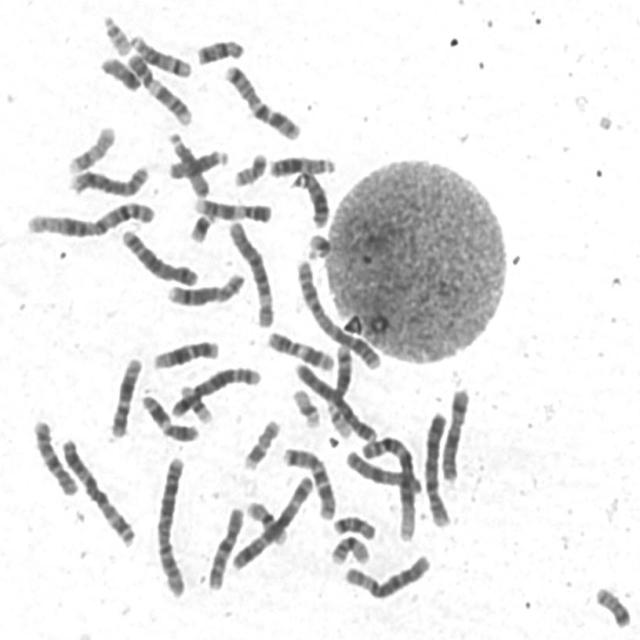A1: (357, 430, 419, 542), (22, 193, 157, 240)
A2: (291, 255, 384, 372), (150, 449, 190, 599)
A3: (56, 432, 138, 548), (228, 469, 316, 572)
B4: (290, 358, 379, 444), (420, 406, 453, 529)
B5: (165, 361, 264, 420), (117, 223, 201, 288)
C10: (28, 414, 79, 497), (203, 501, 246, 592)
C11: (136, 389, 201, 444), (263, 326, 336, 372)
C12: (105, 352, 144, 439), (148, 334, 221, 370)
C6: (224, 216, 276, 329), (340, 549, 432, 602)
C7: (220, 57, 304, 142), (277, 440, 337, 522)
C8: (163, 268, 247, 308), (65, 159, 151, 198)
C9: (123, 47, 195, 126), (189, 192, 273, 224)
D13: (288, 165, 332, 229), (264, 148, 338, 180)
D14: (124, 29, 194, 78), (324, 338, 354, 417)
D15: (163, 127, 212, 200), (163, 144, 231, 180)
E16: (242, 496, 288, 546), (327, 532, 372, 567)
E17: (64, 120, 118, 175), (240, 414, 282, 472)
E18: (192, 33, 246, 66), (329, 511, 378, 542)
F19: (287, 382, 324, 430), (176, 380, 213, 424)
F20: (591, 581, 633, 629), (229, 146, 270, 189)
G21: (185, 207, 217, 244), (302, 228, 333, 261)
G22: (99, 9, 132, 57), (323, 397, 354, 440)
X: (342, 444, 424, 496), (438, 382, 473, 483)
Y: (96, 50, 142, 92)
